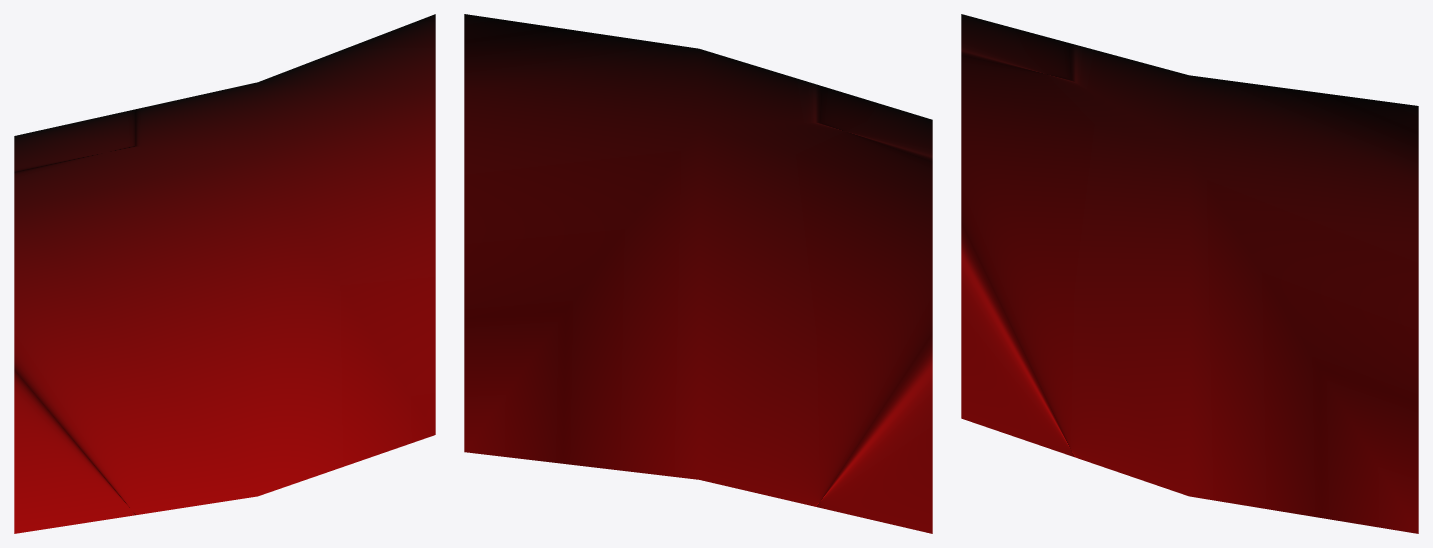
3 renders of one model, left to right at view 1: azimuth 30°, elevation 25°; view 2: azimuth 150°, elevation 25°; view 3: azimuth 330°, elevation 25°, orthographic. The views are drawn at different scales.
Visible parts, largest first — view 1: G:\FFXIV-MapTools\exports\n4f5\bg\ex3\01_nvt_n4\fld\n4f5\bgp; view 2: G:\FFXIV-MapTools\exports\n4f5\bg\ex3\01_nvt_n4\fld\n4f5\bgp; view 3: G:\FFXIV-MapTools\exports\n4f5\bg\ex3\01_nvt_n4\fld\n4f5\bgp.
Part boxes in pixels (bbox=[...]): G:\FFXIV-MapTools\exports\n4f5\bg\ex3\01_nvt_n4\fld\n4f5\bgp: bbox=[14, 14, 435, 533]; G:\FFXIV-MapTools\exports\n4f5\bg\ex3\01_nvt_n4\fld\n4f5\bgp: bbox=[464, 14, 932, 533]; G:\FFXIV-MapTools\exports\n4f5\bg\ex3\01_nvt_n4\fld\n4f5\bgp: bbox=[961, 14, 1418, 533].
Size of the model in its own units: 44.06 by 40.69 by 4.18.
